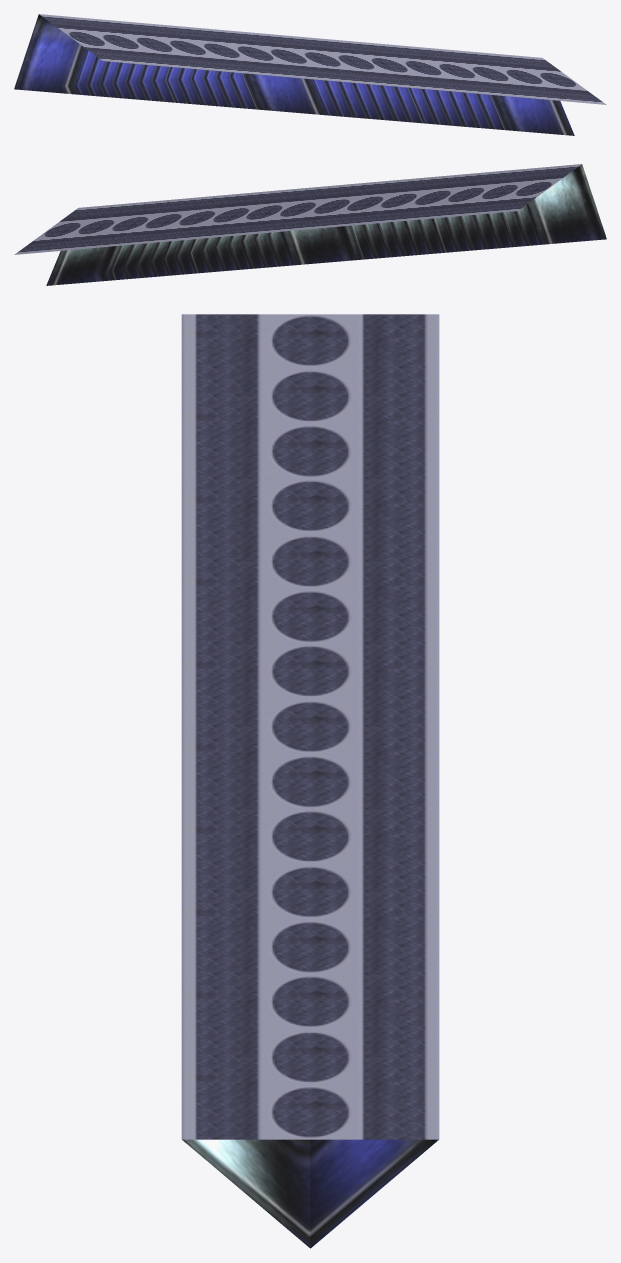
Rendered from catwalk04.glb.
The picture shows the model from 3 angles, top to bottom: view 1: azimuth 30°, elevation 25°; view 2: azimuth 150°, elevation 25°; view 3: azimuth 270°, elevation 25°; orthographic projection. The views are drawn at different scales.
Parts seen in each view (by area): view 1: catwalk04; view 2: catwalk04; view 3: catwalk04.
Part boxes in pixels (box(x1,y1,x2,y2)): catwalk04: box(14, 14, 606, 135); catwalk04: box(14, 164, 606, 285); catwalk04: box(181, 314, 439, 1248).
Size of the model in its own units: 1364 by 515 by 271.
2 materials, 2 textured.
